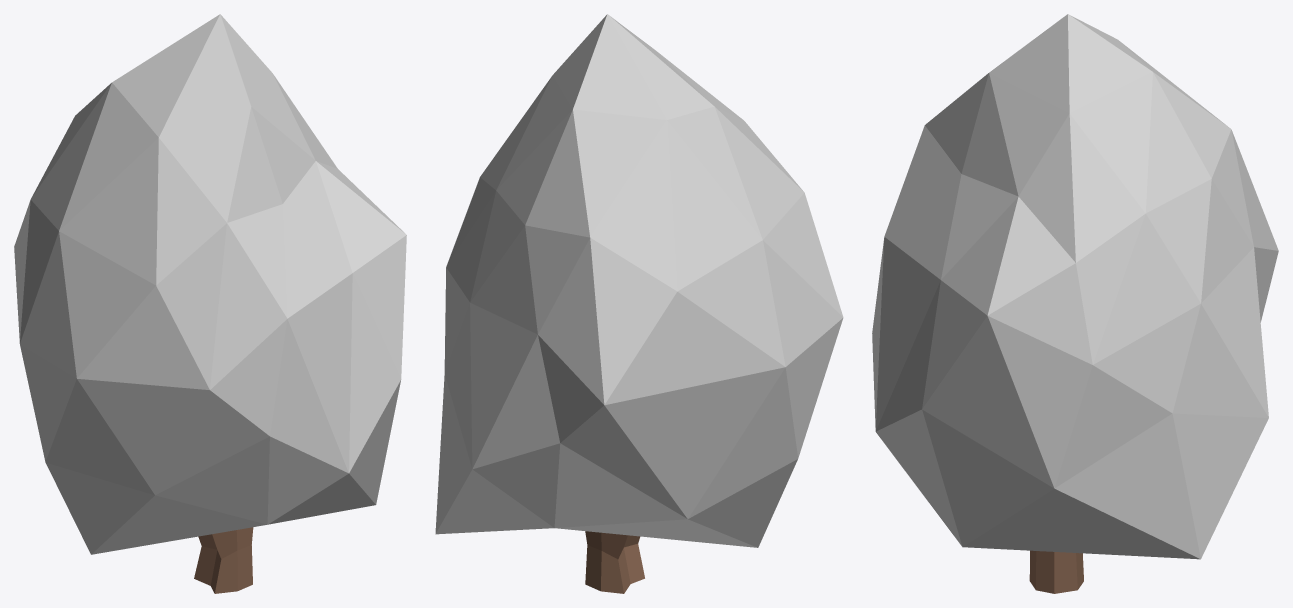
Rendered from Tree_55_White.fbx.
3 views of the same model, side by side, from view 1: azimuth 30°, elevation 25°; view 2: azimuth 150°, elevation 25°; view 3: azimuth 270°, elevation 25° (orthographic).
Parts seen in each view (by area): view 1: Tree_55_White_Part_1, Tree_55_White_Part_2; view 2: Tree_55_White_Part_1, Tree_55_White_Part_2; view 3: Tree_55_White_Part_1, Tree_55_White_Part_2.
Boxes of the visible parts, x1,y1,x2,y2 form: Tree_55_White_Part_1: (14,14,406,554); Tree_55_White_Part_2: (194,527,253,593); Tree_55_White_Part_1: (435,14,843,547); Tree_55_White_Part_2: (585,531,644,593); Tree_55_White_Part_1: (872,14,1278,559); Tree_55_White_Part_2: (1029,550,1083,593).
Size of the model in its own units: 515 by 795 by 516.
